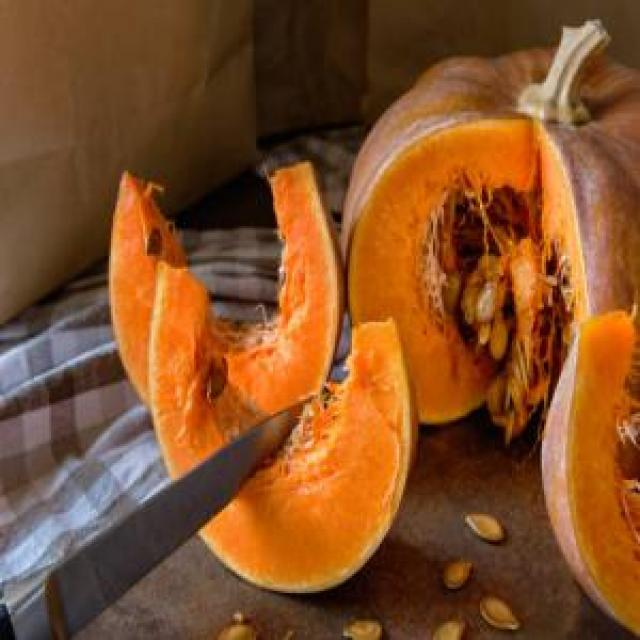knife: (0, 388, 326, 637)
